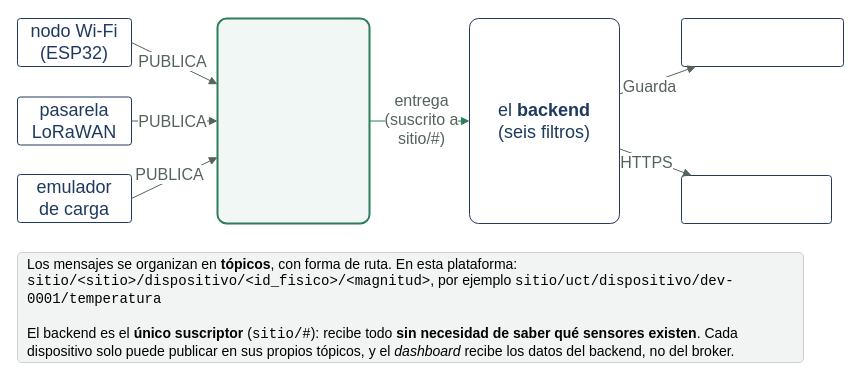
Some shapes in this 861 by 380 pixel diagram are drawn without their labels. The shapes that lost their labels are listed below. From the top down, each one's box as (x1, y1, x2, y2) in pixels, then its label:
(680, 18, 844, 66): la base de datos (TimescaleDB)
(216, 17, 370, 224): BROKER Mosquitto recibe de quien publica, entrega a quien se suscribe
(680, 174, 832, 224): el dashboard (navegador)
